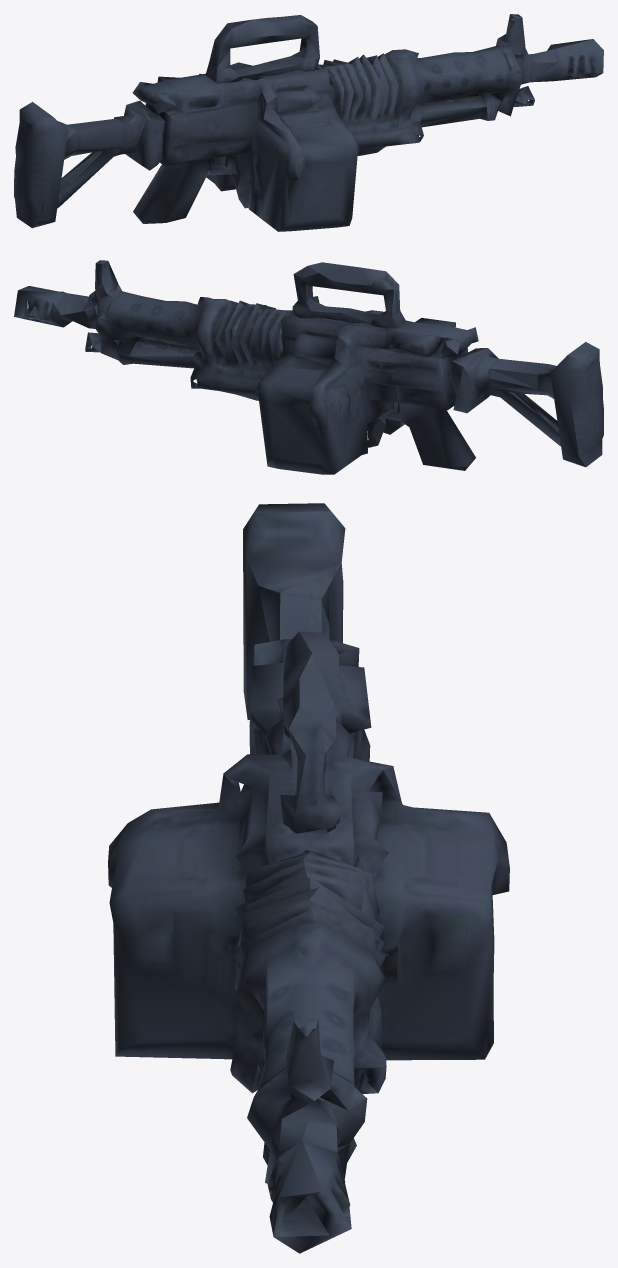
File: auto-miner.glb
3 views of the same model, one above another, from view 1: azimuth 30°, elevation 25°; view 2: azimuth 150°, elevation 25°; view 3: azimuth 270°, elevation 25° (orthographic). The views are drawn at different scales.
Parts seen in each view (by area): view 1: HMH Weapon | auto-miner; view 2: HMH Weapon | auto-miner; view 3: HMH Weapon | auto-miner.
Part boxes in pixels (x1=…): HMH Weapon | auto-miner: x1=14, y1=14, x2=603, y2=231; HMH Weapon | auto-miner: x1=14, y1=260, x2=603, y2=474; HMH Weapon | auto-miner: x1=108, y1=503, x2=509, y2=1253.
Bounding box in the file's own units: 1.1 × 0.346 × 0.3342.
Materials: 1 (1 with a texture image).
